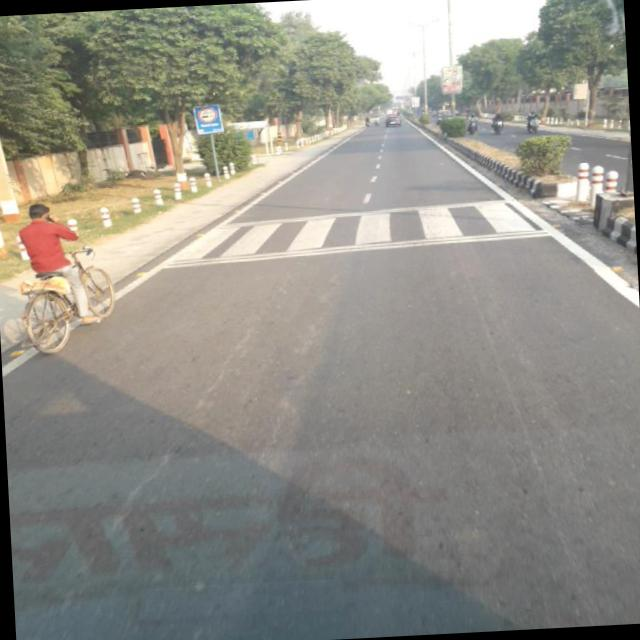pothole: (19, 321, 280, 601), (452, 258, 579, 574)
